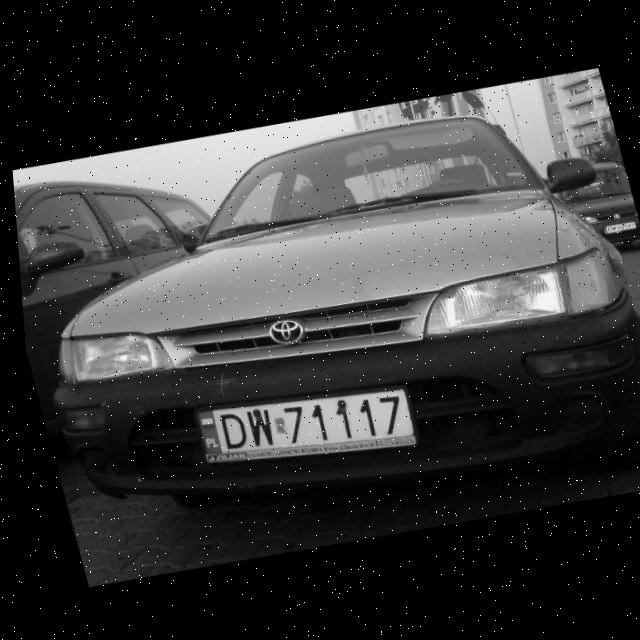license-plates: (196, 389, 418, 464)
